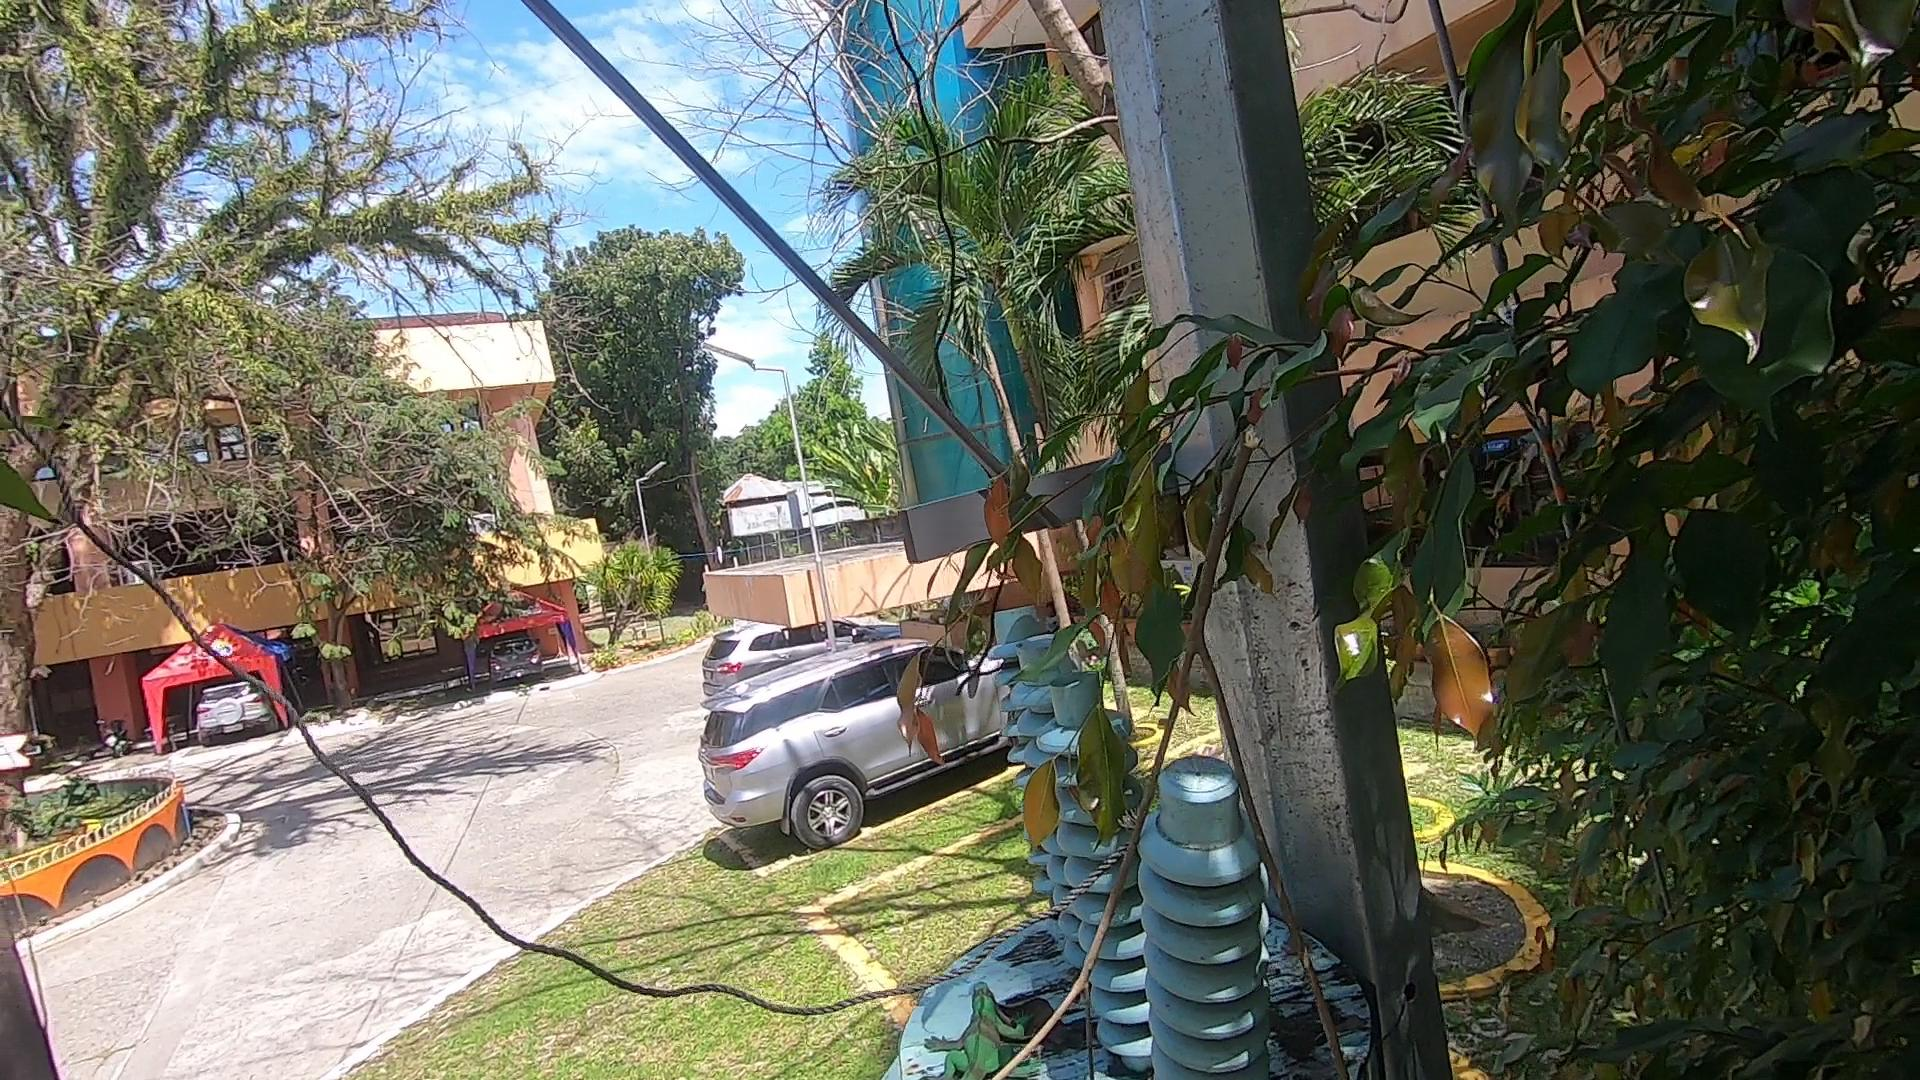leaf: (1007, 971, 1047, 1042)
tree branch: (988, 451, 1361, 1080)
